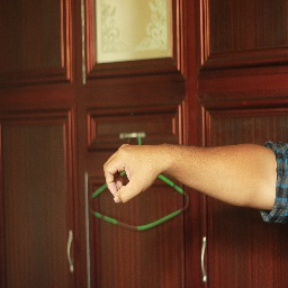O: (100, 141, 170, 209)
